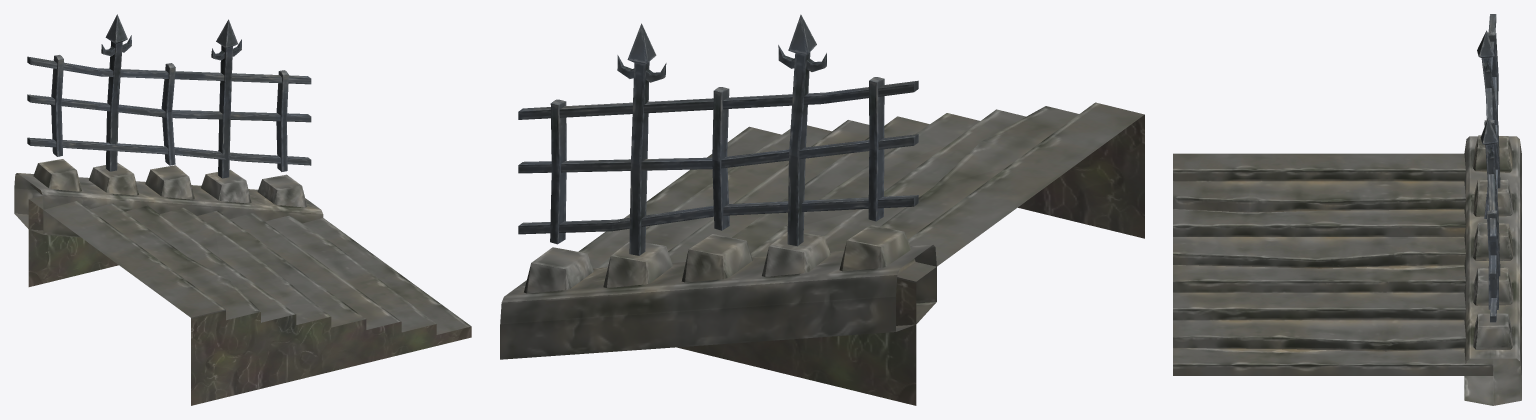
Rendered from Stairs_low_handrail_right.obj.
3 renders of one model, left to right at view 1: azimuth 30°, elevation 25°; view 2: azimuth 150°, elevation 25°; view 3: azimuth 270°, elevation 25°, orthographic. The views are drawn at different scales.
Parts seen in each view (by area): view 1: Stairs_low_handrail_right; view 2: Stairs_low_handrail_right; view 3: Stairs_low_handrail_right.
Part boxes in pixels (left/top/right/bottom): Stairs_low_handrail_right: left=14, top=14, right=471, bottom=405; Stairs_low_handrail_right: left=500, top=14, right=1144, bottom=405; Stairs_low_handrail_right: left=1173, top=14, right=1521, bottom=405.
Size of the model in its own units: 10 by 9.71 by 10.9.
